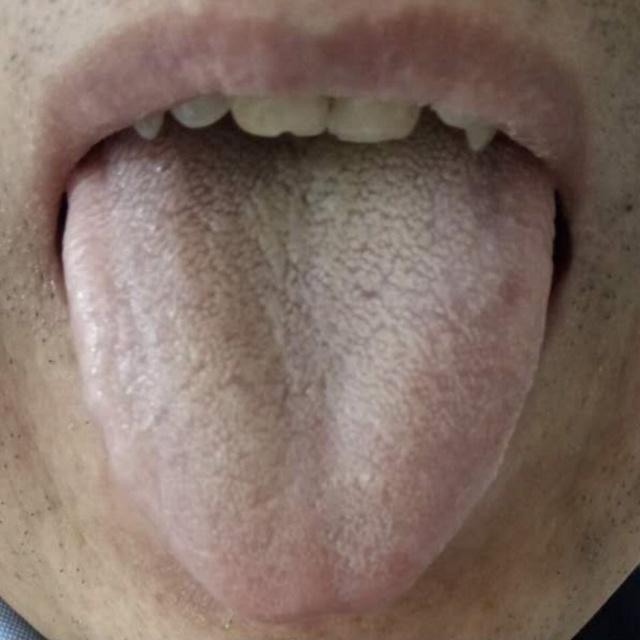baitaishe: (62, 146, 557, 620)
